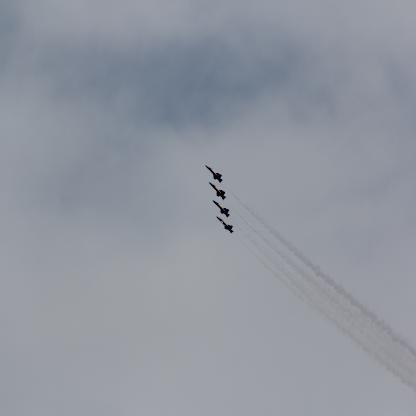aircraft: (216, 216, 234, 234), (209, 181, 226, 200), (212, 200, 230, 217), (205, 165, 223, 182)
